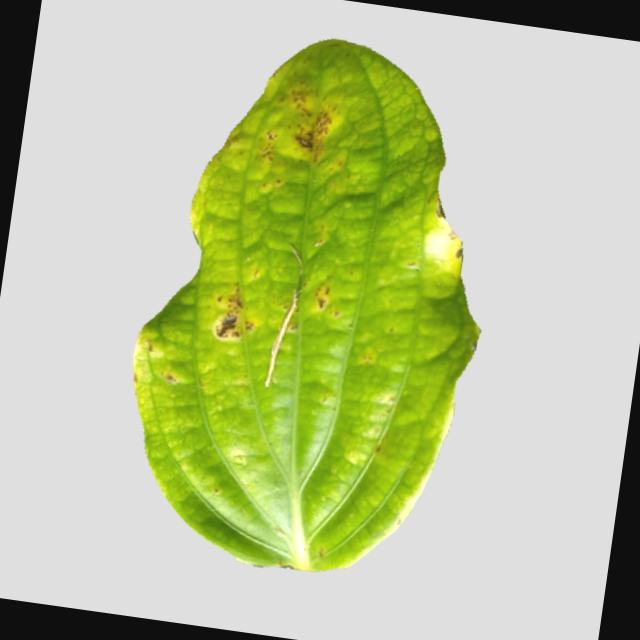yellow-mottle-virus: (86, 16, 543, 594)
